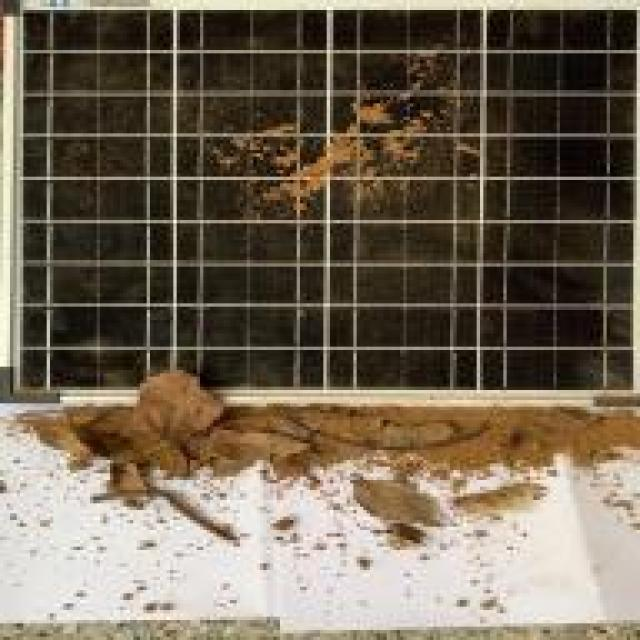dust-solar-panel: (0, 0, 640, 401)
